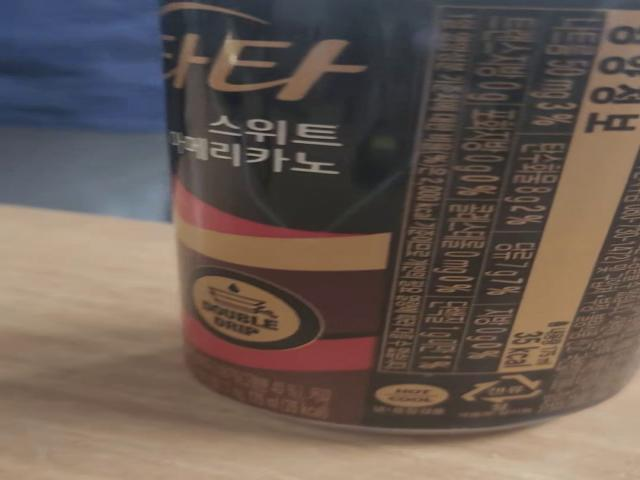Canned_drinks: (157, 2, 640, 443)
